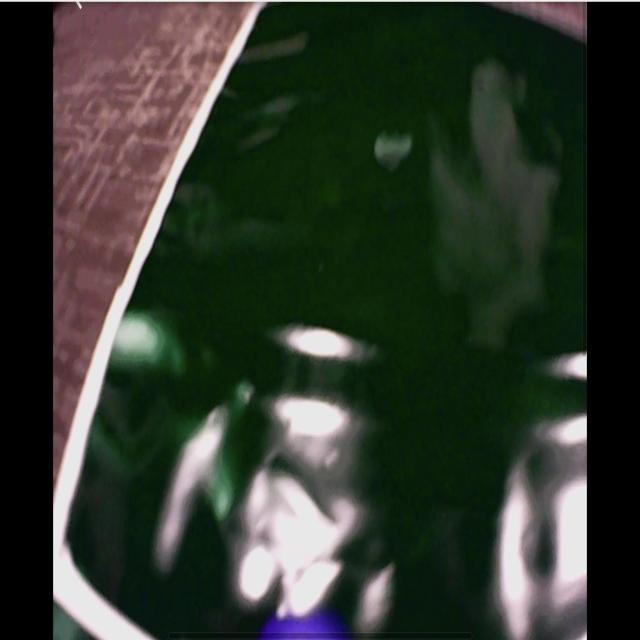ball: (259, 613, 342, 640)
